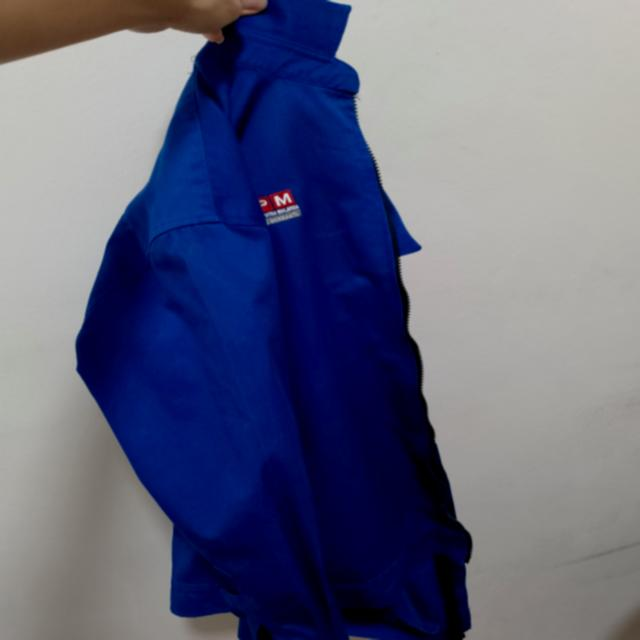person_without_labcoat: (76, 0, 471, 640)
